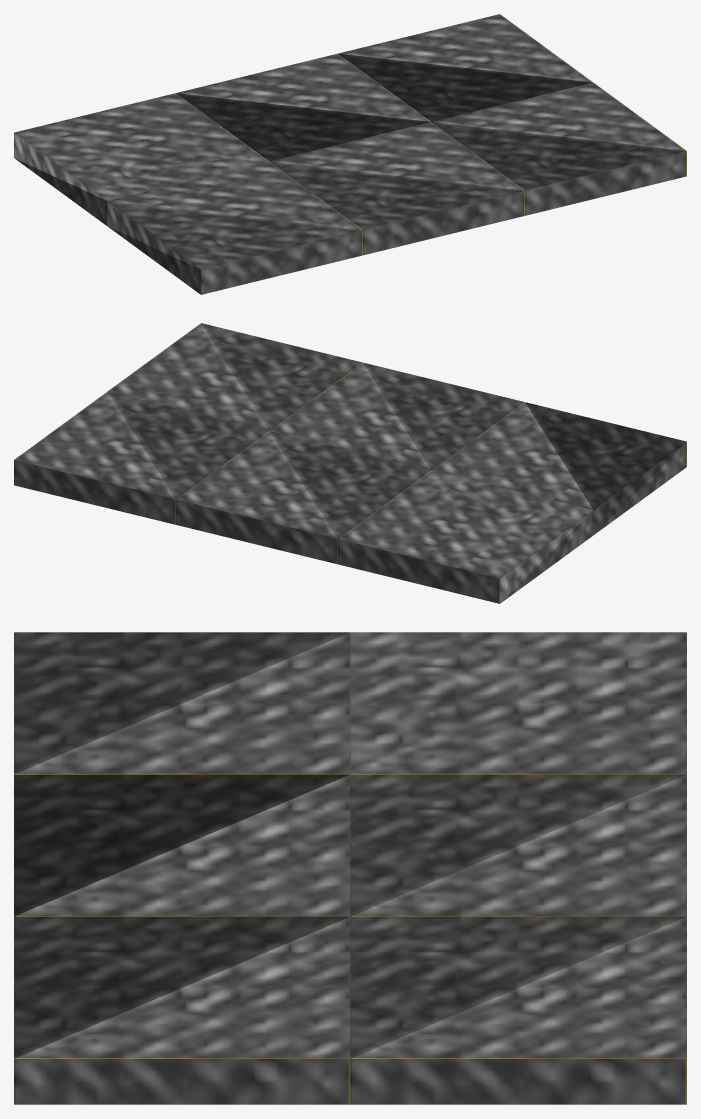
The model's file is chunk_0_0__0.obj.
The picture shows the model from 3 angles, top to bottom: view 1: azimuth 30°, elevation 25°; view 2: azimuth 150°, elevation 25°; view 3: azimuth 270°, elevation 25°; orthographic projection. The views are drawn at different scales.
Parts seen in each view (by area): view 1: MyModel; view 2: MyModel; view 3: MyModel.
Part boxes in pixels (x1,y1,x2,y2): MyModel: (14,14,686,294); MyModel: (14,323,686,603); MyModel: (14,632,686,1104).
Bounding box in the file's own units: 3 × 0.15 × 2.
1 material, 1 textured.
